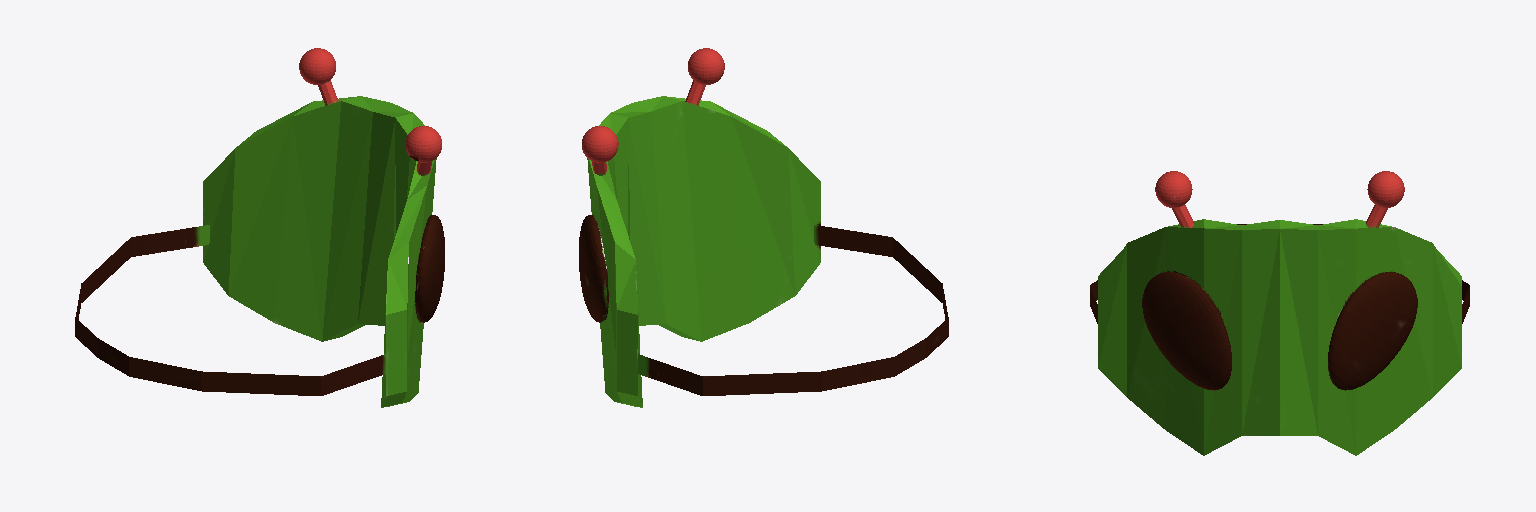
The picture shows the model from 3 angles: view 1: azimuth 30°, elevation 25°; view 2: azimuth 150°, elevation 25°; view 3: azimuth 270°, elevation 25°; orthographic projection.
Visible parts, largest first — view 1: alienCareta; view 2: alienCareta; view 3: alienCareta.
Part boxes in pixels (x1,y1,x2,y2): alienCareta: (75, 48, 444, 407); alienCareta: (579, 48, 948, 407); alienCareta: (1090, 171, 1469, 455).
Bounding box in the file's own units: 2.39 × 2.02 × 2.49.
Materials: 1 (1 with a texture image).